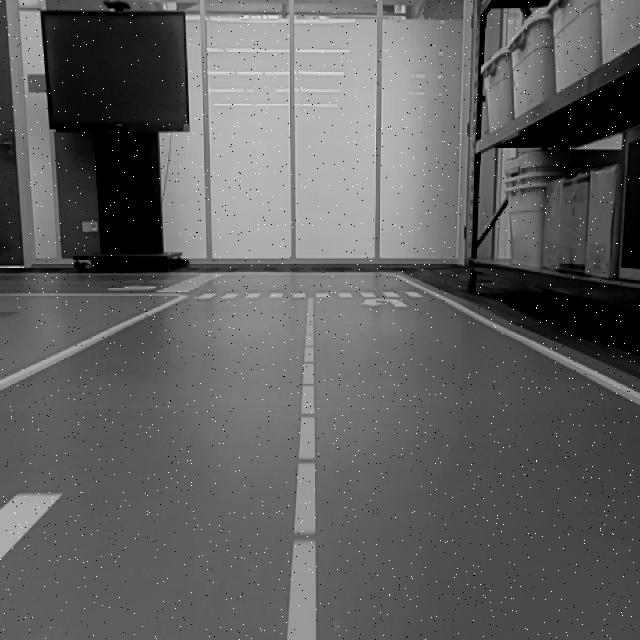left_lane: (288, 296, 317, 640)
right_lane: (396, 274, 639, 405), (0, 294, 185, 393)
